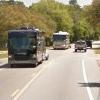Car: (73, 36, 94, 60)
